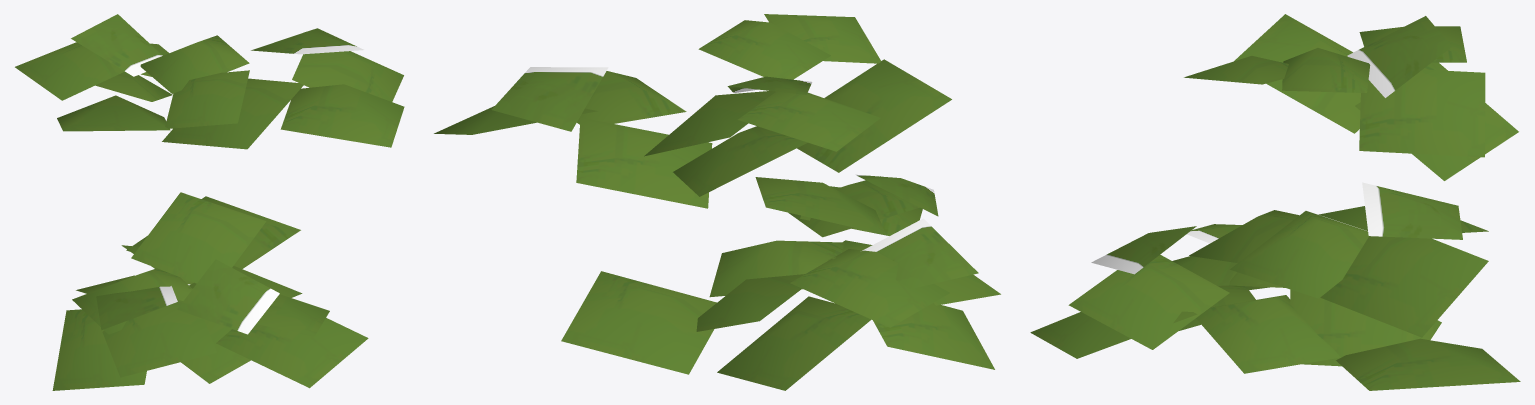
File: City_bujian_36.fbx
The picture shows the model from 3 angles, left to right: view 1: azimuth 30°, elevation 25°; view 2: azimuth 150°, elevation 25°; view 3: azimuth 270°, elevation 25°; orthographic projection. The views are drawn at different scales.
Parts seen in each view (by area): view 1: pasted__DrawCall_0073; view 2: pasted__DrawCall_0073; view 3: pasted__DrawCall_0073.
Boxes of the visible parts, left/top/right/bottom form: pasted__DrawCall_0073: left=15, top=14, right=404, bottom=390; pasted__DrawCall_0073: left=434, top=14, right=1000, bottom=390; pasted__DrawCall_0073: left=1030, top=14, right=1520, bottom=390.
Size of the model in its own units: 7.86 by 5.07 by 6.81.
